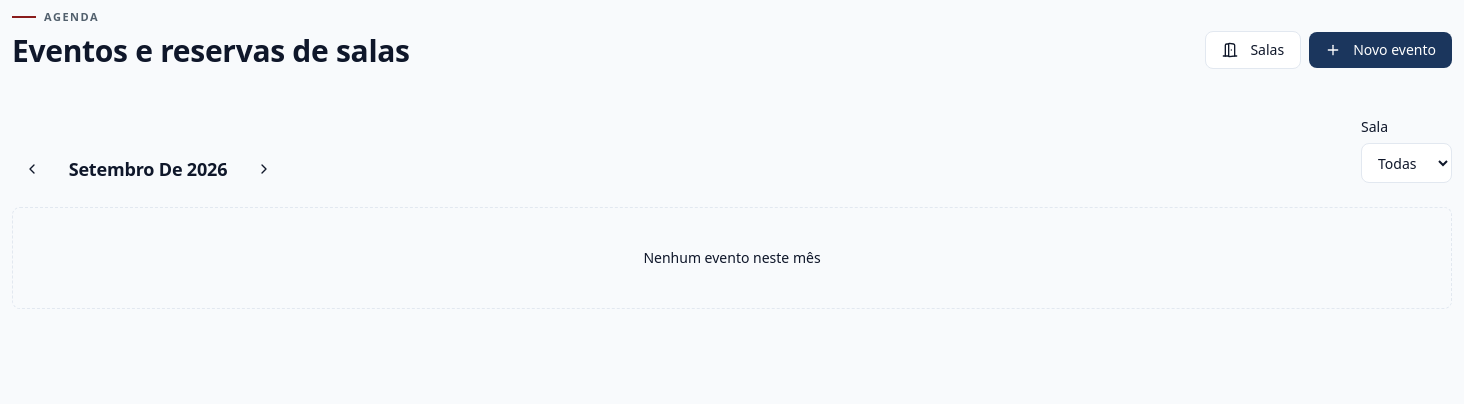
Scenario: Agenda › mês vazio e erro
This screenshot has width=1464, height=404.
Expected: the text "Nenhum evento neste mês" is shown, x1=643 y1=248 x2=821 y2=268
Select "Sala r1" in the dropdown labelled "Sala" at [1406, 163], box x1=1361 y1=143 x2=1452 y2=183
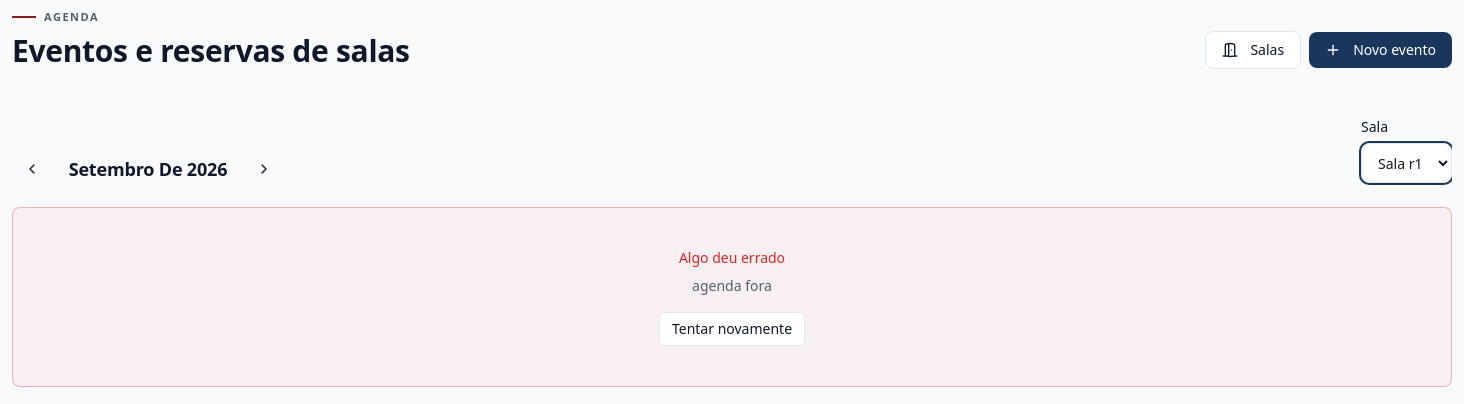
Expected: the text "agenda fora" is shown, x1=692 y1=276 x2=772 y2=296
